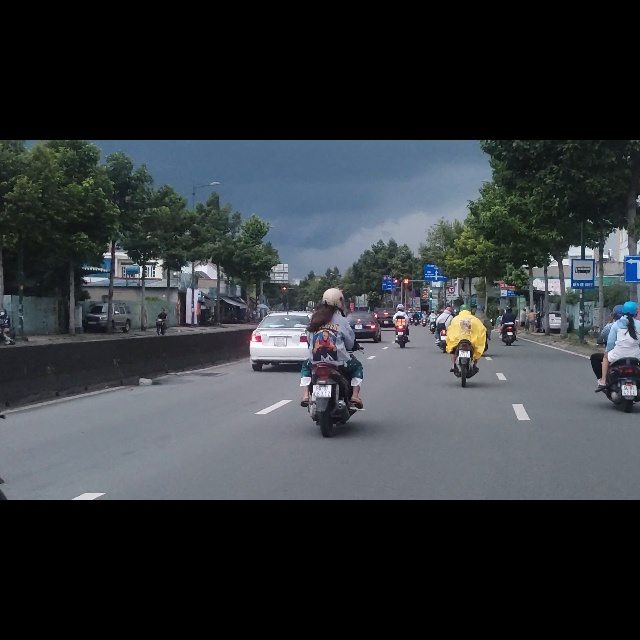bien_cam: (571, 210, 595, 264), (382, 248, 396, 267), (448, 260, 455, 272)
